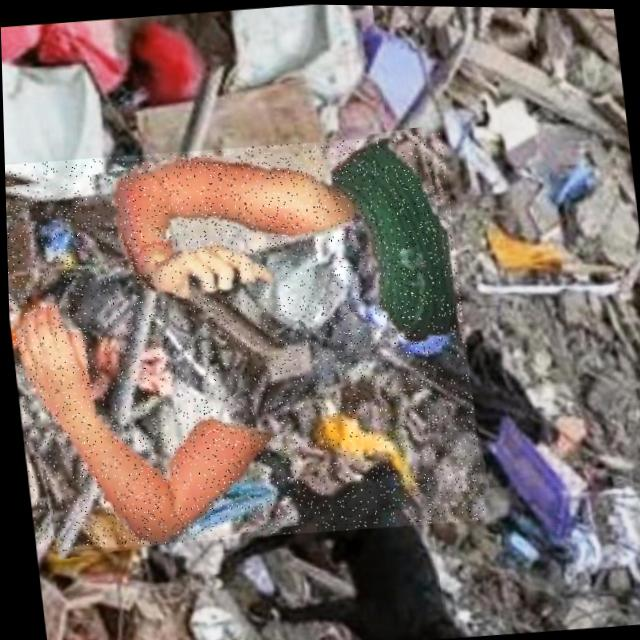Person in Rubble: (3, 126, 483, 557)
